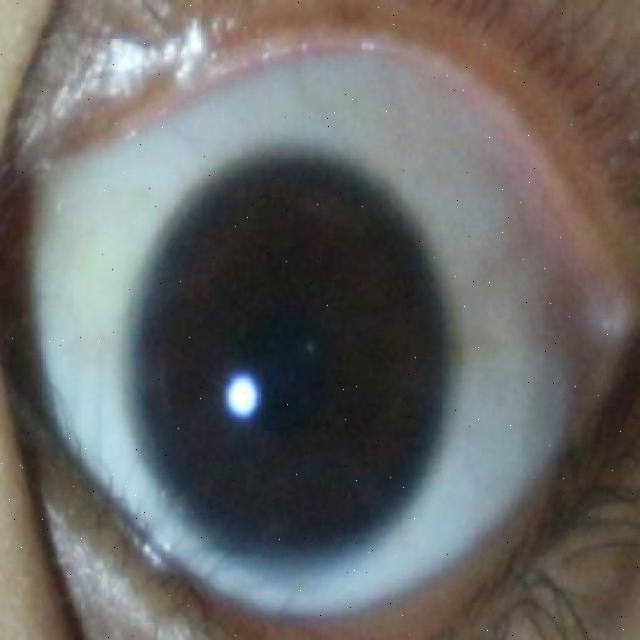Normal: (123, 155, 447, 571)
